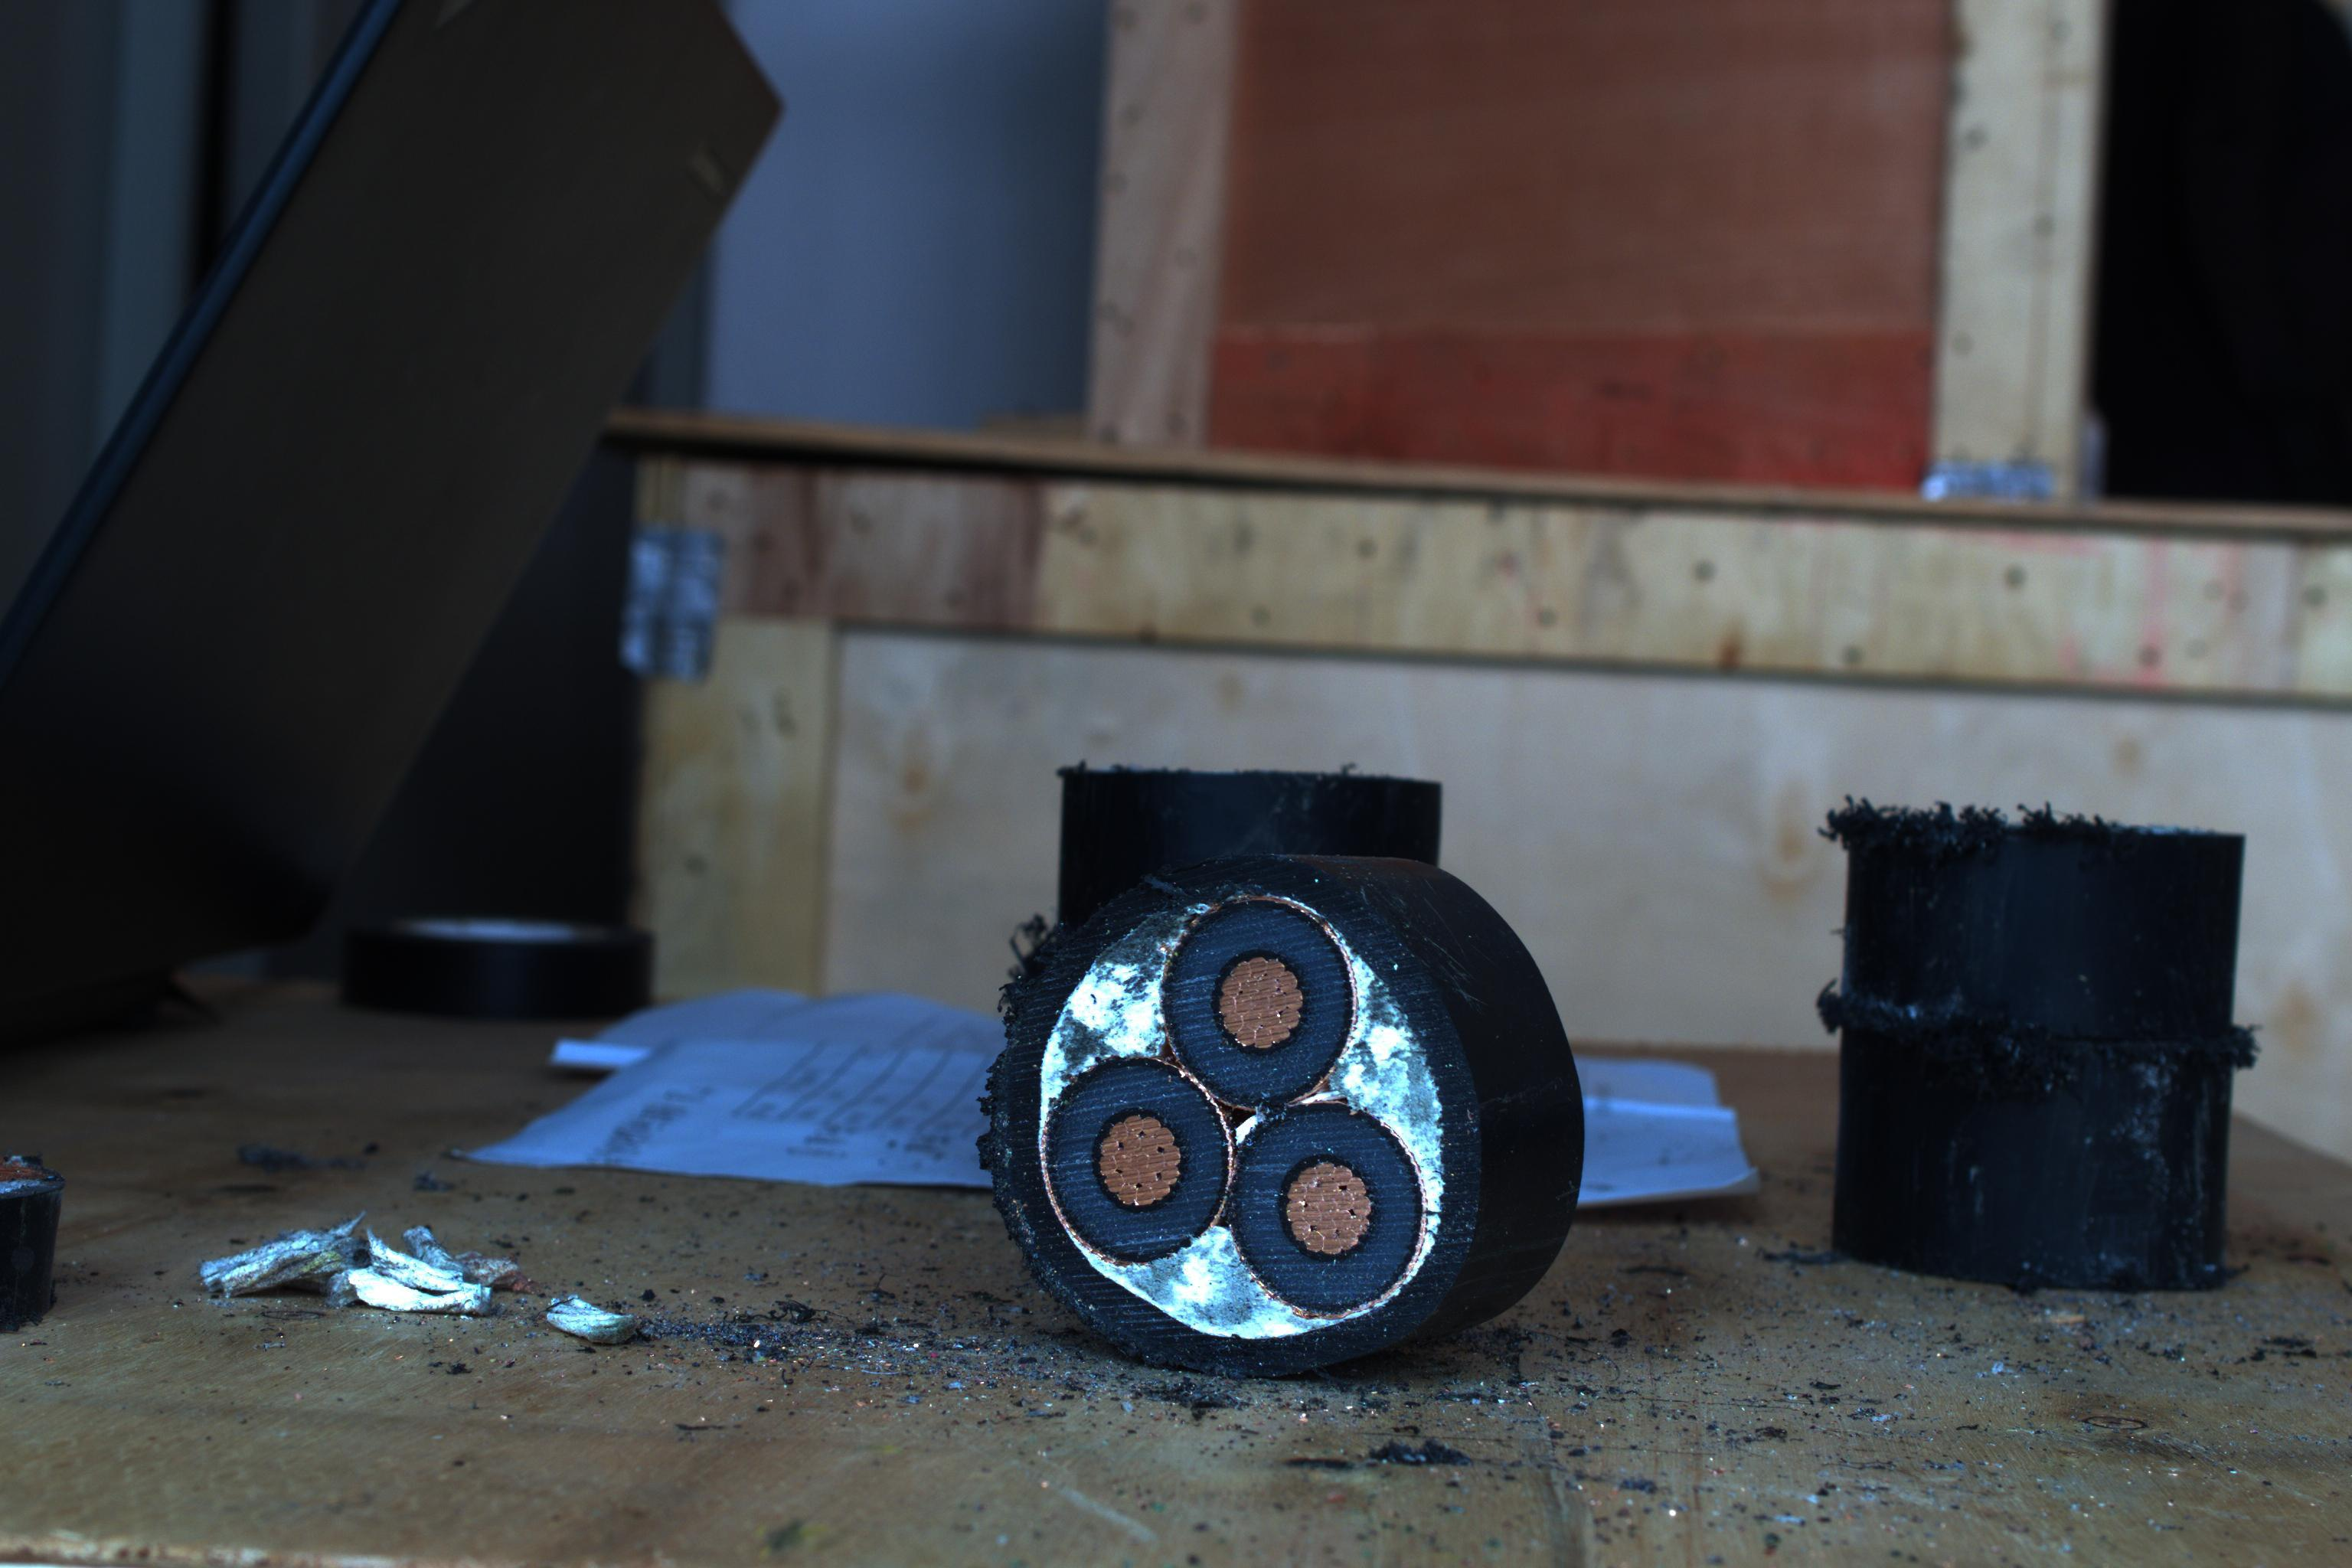YJV_8.7_10kV_3x70: (980, 875, 1479, 1354)
